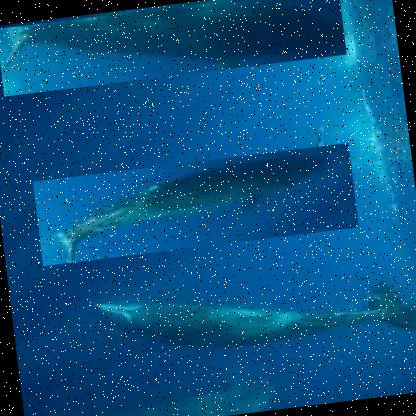sperm_whale: (76, 227, 415, 389), (31, 140, 358, 264), (0, 0, 347, 96)
